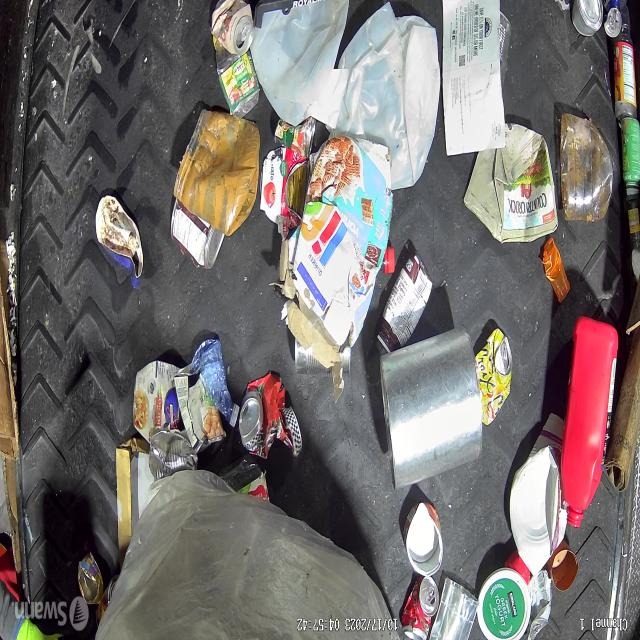can: (238, 371, 303, 460), (173, 359, 223, 452), (170, 197, 226, 271), (475, 328, 512, 426), (148, 424, 198, 482), (399, 576, 440, 640), (211, 0, 255, 58), (294, 338, 352, 377), (76, 550, 104, 604), (571, 0, 604, 38), (603, 0, 623, 40)
milk_jug: (324, 2, 440, 191), (250, 0, 349, 125)
non_white_jug: (562, 321, 619, 533)
